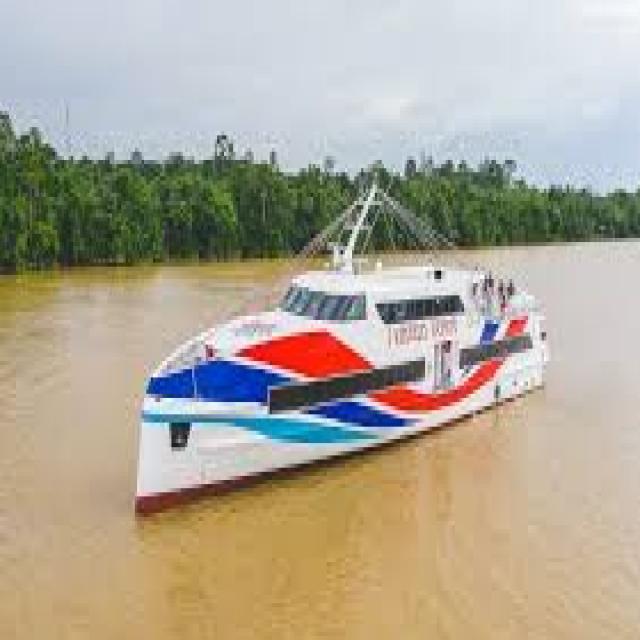houseboat: (136, 210, 551, 496)
